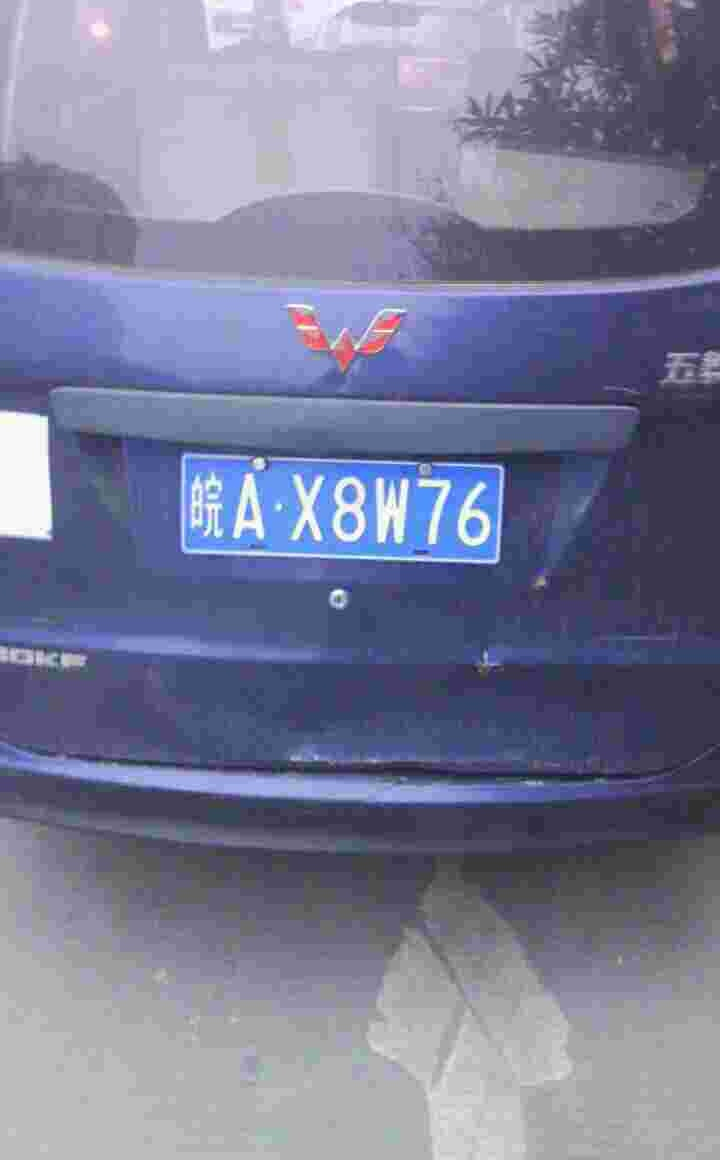license_plate: (170, 452, 514, 559)
